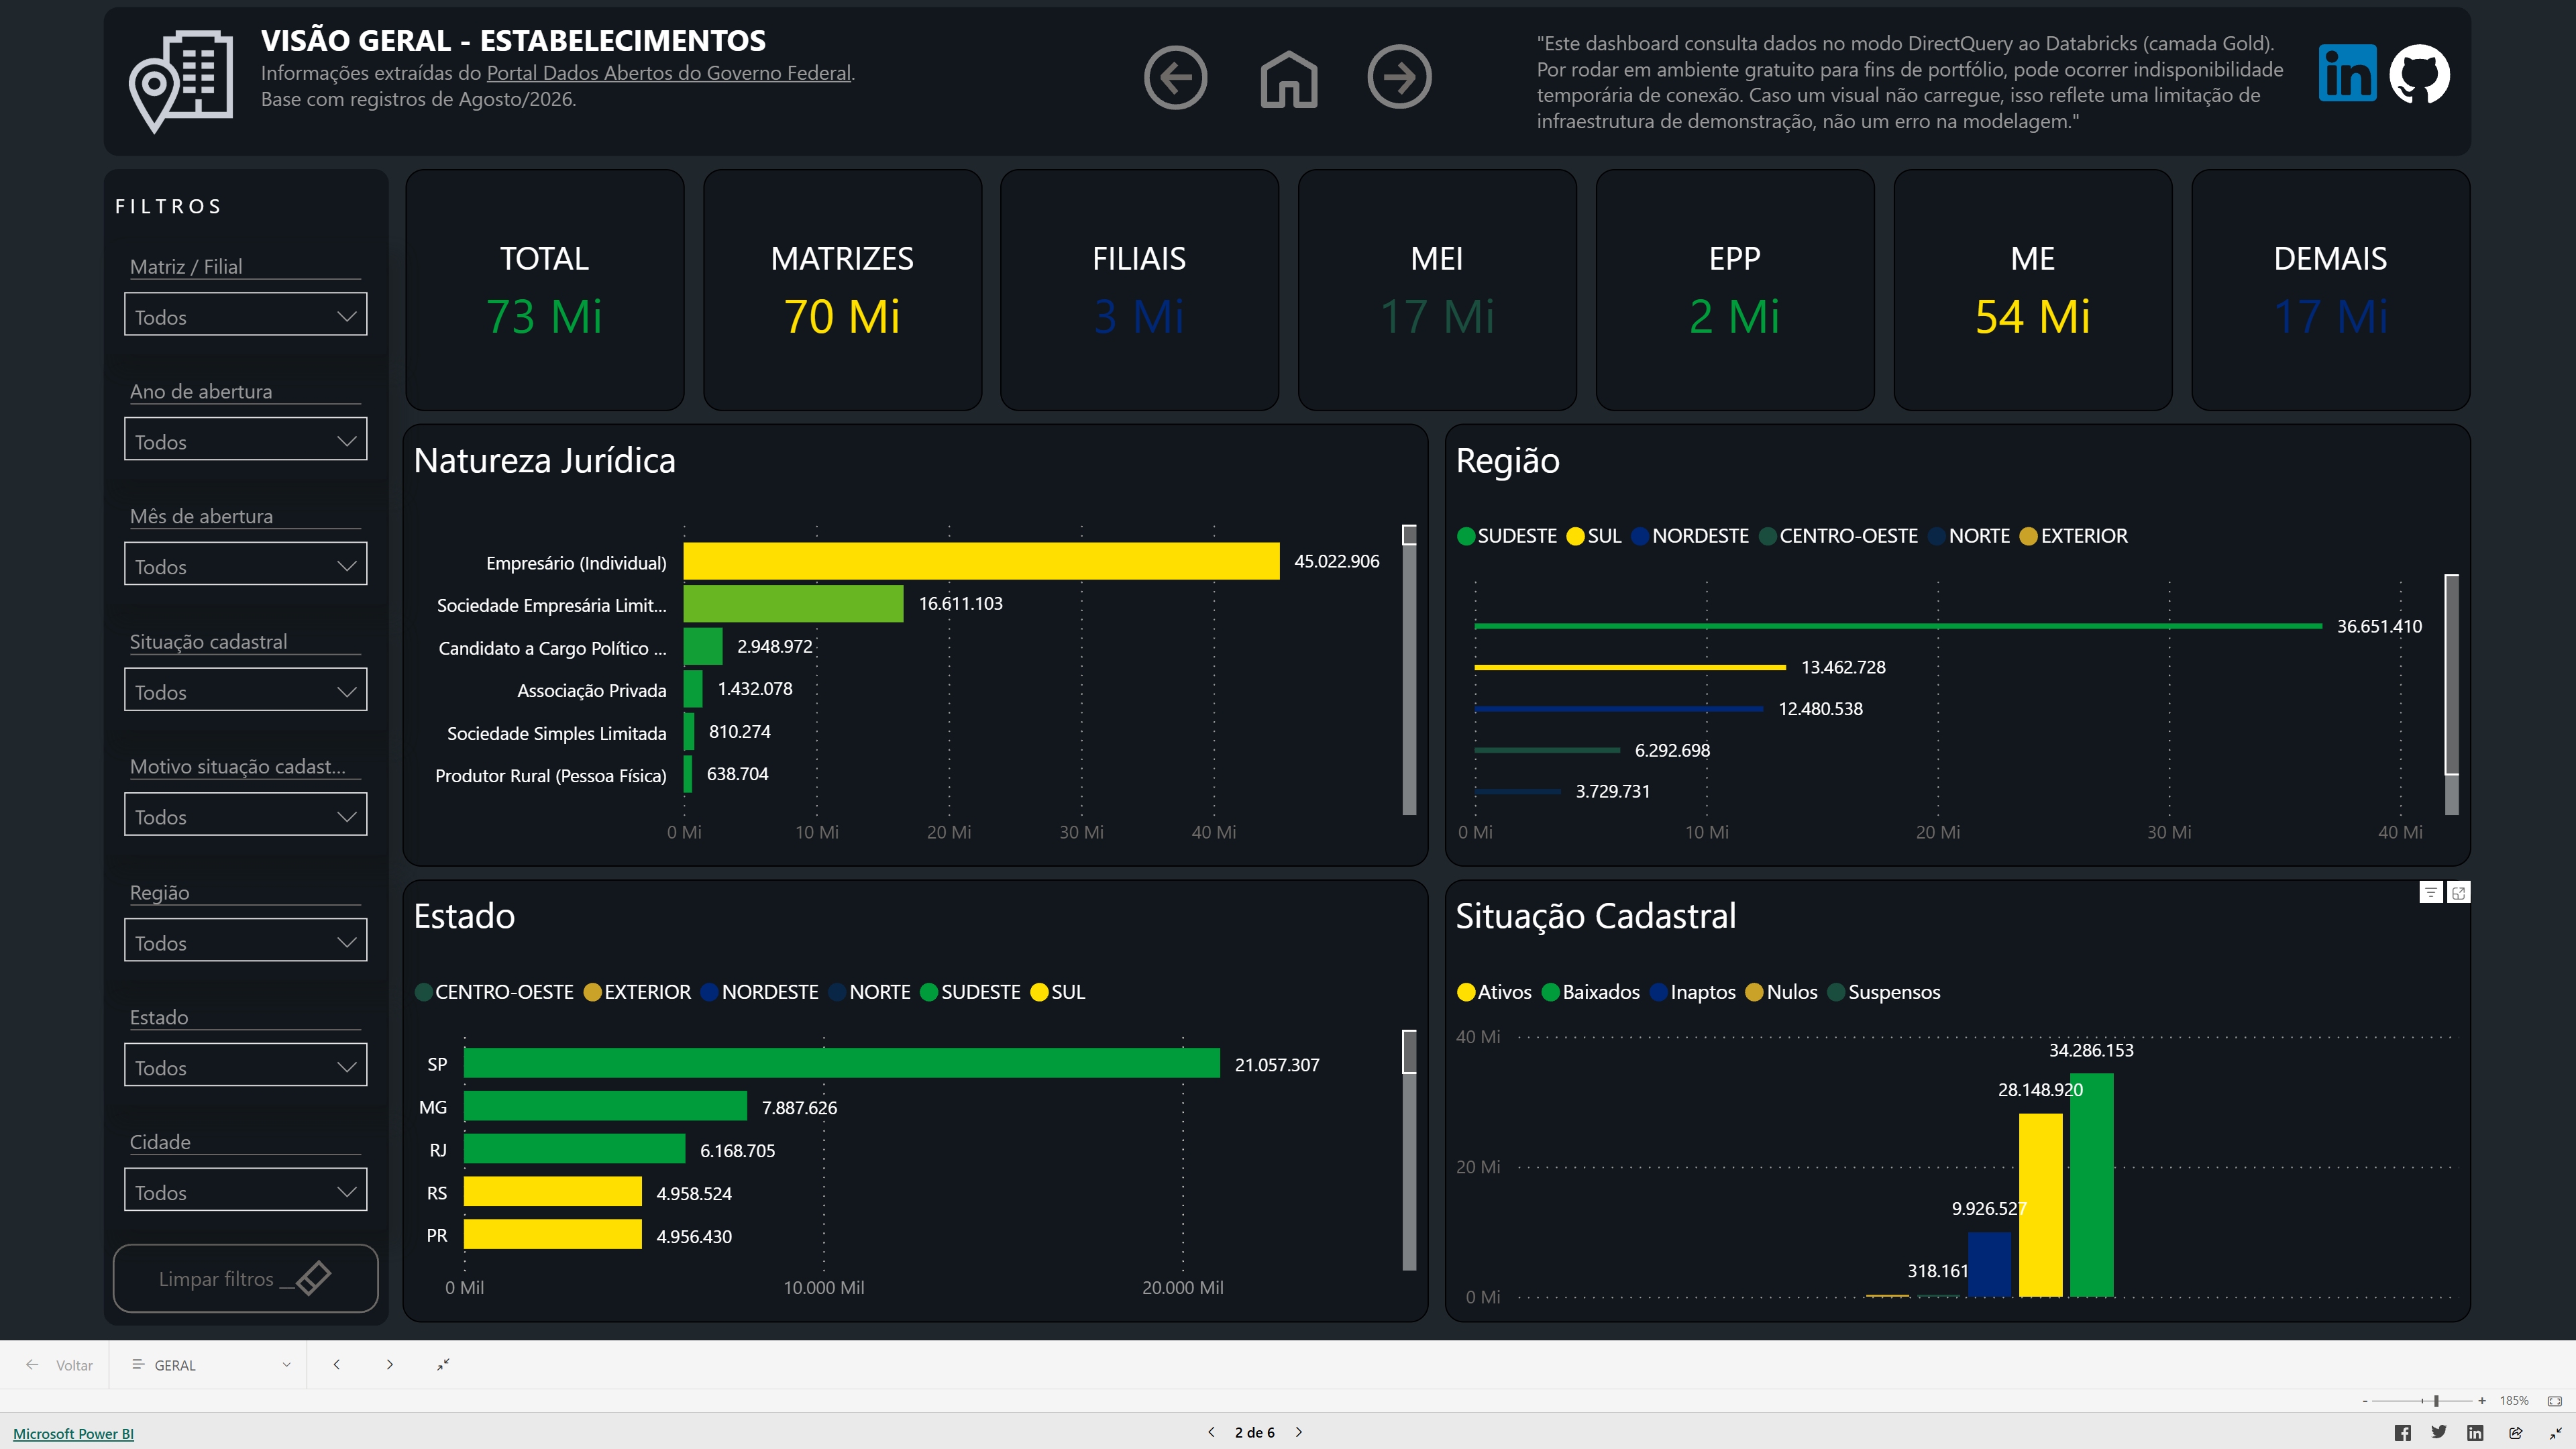

What the dashboard file says about the page in this screenshot:
{"tool":"powerbi","page":{"name":"ESTABELECIMENTOS","canvas":[1280,720],"ordinal":1},"visuals":[{"type":"image","title":"Botão home","box":[623,25.2,35.8,35],"z":0,"group":"g2"},{"type":"clusteredBarChart","title":"Região","fields":{"Category":["dim_localidades.regiao"],"Series":["dim_localidades.regiao"],"Y":["_Medidas.Total de Estabelecimentos"]},"box":[808.7,394,464.7,320],"z":0,"group":"g1"},{"type":"shape","title":"Menu superior","box":[4,4,1272,80],"z":1000,"group":"g4"},{"type":"actionButton","title":"Seta voltar","box":[568,27.4,26,29.9],"z":1000,"group":"g2"},{"type":"group","id":"g1","title":"Gráficos","box":[166.7,88,1106.7,626],"z":1000},{"type":"clusteredColumnChart","title":"Situação Cadastral","fields":{"Y":["_Medidas.Total de Estabelecimentos Ativos","_Medidas.Total de Estabelecimentos Baixados","_Medidas.Total de Estabelecimentos Inaptos","_Medidas.Total de Estabelecimentos Nulos","_Medidas.Total de Estabelecimentos Suspensos"]},"box":[166.7,296,637.3,418],"z":1000,"group":"g1"},{"type":"image","title":"LinkedIn","box":[1190,24,39.2,30.8],"z":1500,"group":"g4"},{"type":"image","title":"GitHub","box":[1230,24,36.5,31.7],"z":1750,"group":"g4"},{"type":"group","id":"g2","title":"Navegação páginas","box":[563,24,155.2,36.1],"z":2000,"group":"g4"},{"type":"actionButton","title":"Seta próxima","box":[687,27.4,26,29.9],"z":2000,"group":"g2"},{"type":"barChart","title":"Estado","fields":{"Category":["dim_localidades.uf"],"Series":["dim_localidades.regiao"],"Y":["_Medidas.Total de Estabelecimentos"]},"box":[808.7,88,464.7,301.3],"z":2000,"group":"g1"},{"type":"shape","title":"Fundo","box":[3.6,88.3,157.7,625.9],"z":2000,"group":"g3"},{"type":"group","id":"g3","title":"Painel filtros","box":[3.6,88.3,157.7,625.9],"z":2500},{"type":"actionButton","title":"Botão limpar filtros","box":[8.7,668.6,147.2,37.5],"z":2500,"group":"g3"},{"type":"group","id":"g4","title":"Menu principal","box":[4,4,1272,80],"z":3000},{"type":"textbox","title":"Texto menu supeior","box":[83.4,5.3,334.3,76.1],"z":3000,"group":"g4"},{"type":"shape","title":"Botão voltar","box":[563,24.7,34.2,34.7],"z":3000,"group":"g2"},{"type":"cardVisual","fields":{"Data":["_Medidas.Total de Filiais1"]},"box":[596,88,208,202.7],"z":3000,"group":"g1"},{"type":"image","title":"Imagem Estabelecimentos","box":[17.7,13.1,56.2,62.3],"z":4000,"group":"g4"},{"type":"shape","title":"Botão próxima","box":[683,24,34.7,34.7],"z":4000,"group":"g2"},{"type":"cardVisual","fields":{"Data":["_Medidas.Total de Matrizes"]},"box":[381.4,88,208,202.7],"z":4000,"group":"g1"},{"type":"cardVisual","fields":{"Data":["_Medidas.Total de Estabelecimentos"]},"box":[166.7,88,208,202.7],"z":5000,"group":"g1"},{"type":"slicer","title":"Filtro região","fields":{"Values":["dim_localidades.regiao"]},"box":[5,506.6,155,60],"z":6000,"group":"g3"},{"type":"slicer","title":"Filtro estado","fields":{"Values":["dim_localidades.uf"]},"box":[5,451.6,155,60],"z":7000,"group":"g3"},{"type":"slicer","title":"Filtro cnae","fields":{"Values":["dim_localidades.municipio"]},"box":[5,396.6,155,60],"z":8000,"group":"g3"},{"type":"slicer","title":"Filtro motivo situação cadastral","fields":{"Values":["dim_situacoes.motivo_situacao_cadastral"]},"box":[5,340.2,155,60],"z":9000,"group":"g3"},{"type":"slicer","title":"Filtro situação cadastral","fields":{"Values":["dim_situacoes.situacao_cadastral"]},"box":[5,285.2,155,60],"z":10000,"group":"g3"},{"type":"slicer","title":"Filtro tipo estabelecimento","fields":{"Values":["dim_situacoes.identificador_matriz_filial"]},"box":[5,230.2,155,60],"z":11000,"group":"g3"},{"type":"slicer","title":"Filtro mês","fields":{"Values":["dim_tempo_inicio_atividades.nome_mes"]},"box":[5,175.2,155,60],"z":12000,"group":"g3"},{"type":"slicer","title":"Filtro ano","fields":{"Values":["dim_tempo_inicio_atividades.ano"]},"box":[5,115,155,60],"z":13000,"group":"g3"},{"type":"textbox","title":"Texto filtros","box":[8.6,88.3,90.6,30.2],"z":14000,"group":"g3"}]}

Visuals, with their boxes on the page's 1280x720 design canvas (x1, y1, x2, y2). These are canvas units, not pixel positions in the 2576x1449 screenshot, which may show the page scaled, cropped or inside an application window:
"Botão home" image: 623:25:659:60
"Região" clusteredBarChart: 809:394:1273:714
"Menu superior" shape: 4:4:1276:84
"Seta voltar" actionButton: 568:27:594:57
"Gráficos" group: 167:88:1273:714
"Situação Cadastral" clusteredColumnChart: 167:296:804:714
"LinkedIn" image: 1190:24:1229:55
"GitHub" image: 1230:24:1266:56
"Navegação páginas" group: 563:24:718:60
"Seta próxima" actionButton: 687:27:713:57
"Estado" barChart: 809:88:1273:389
"Fundo" shape: 4:88:161:714
"Painel filtros" group: 4:88:161:714
"Botão limpar filtros" actionButton: 9:669:156:706
"Menu principal" group: 4:4:1276:84
"Texto menu supeior" textbox: 83:5:418:81
"Botão voltar" shape: 563:25:597:59
cardVisual - _Medidas.Total de Filiais1: 596:88:804:291
"Imagem Estabelecimentos" image: 18:13:74:75
"Botão próxima" shape: 683:24:718:59
cardVisual - _Medidas.Total de Matrizes: 381:88:589:291
cardVisual - _Medidas.Total de Estabelecimentos: 167:88:375:291
"Filtro região" slicer: 5:507:160:567
"Filtro estado" slicer: 5:452:160:512
"Filtro cnae" slicer: 5:397:160:457
"Filtro motivo situação cadastral" slicer: 5:340:160:400
"Filtro situação cadastral" slicer: 5:285:160:345
"Filtro tipo estabelecimento" slicer: 5:230:160:290
"Filtro mês" slicer: 5:175:160:235
"Filtro ano" slicer: 5:115:160:175
"Texto filtros" textbox: 9:88:99:118
